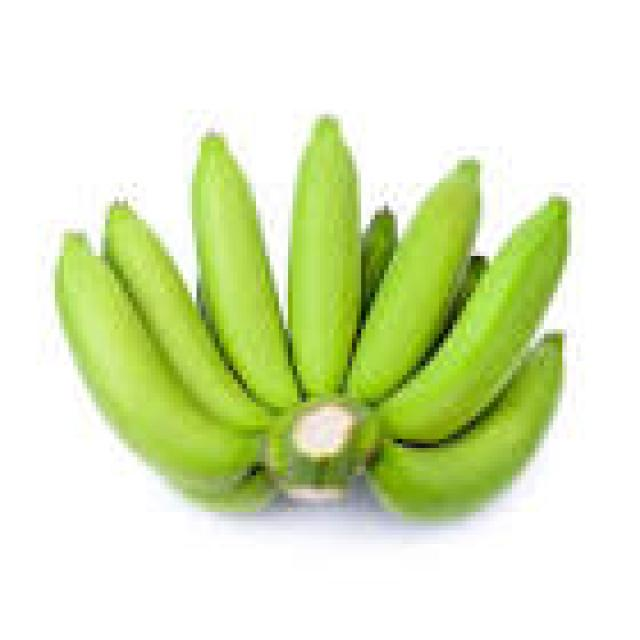banana: (55, 234, 260, 489), (380, 197, 566, 443), (106, 202, 274, 434), (371, 334, 562, 516), (348, 160, 479, 402), (192, 138, 297, 406), (288, 119, 361, 397), (266, 398, 379, 498), (179, 467, 278, 511), (362, 206, 397, 319), (448, 256, 489, 329)
